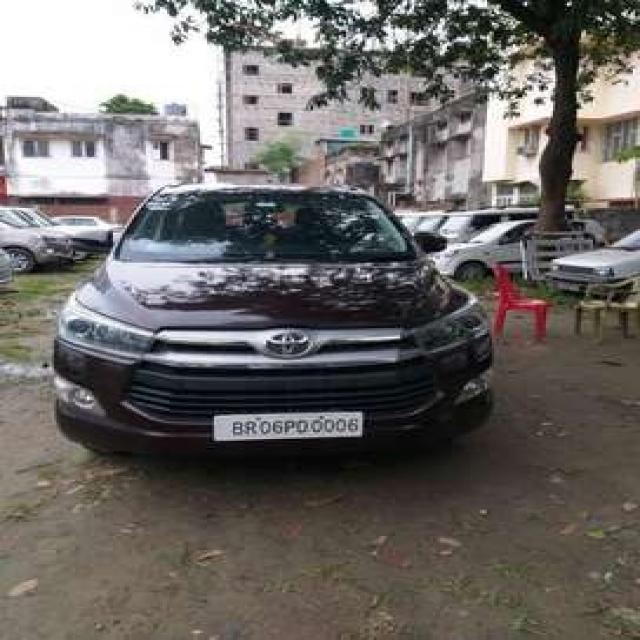license-plate: (209, 409, 360, 439)
